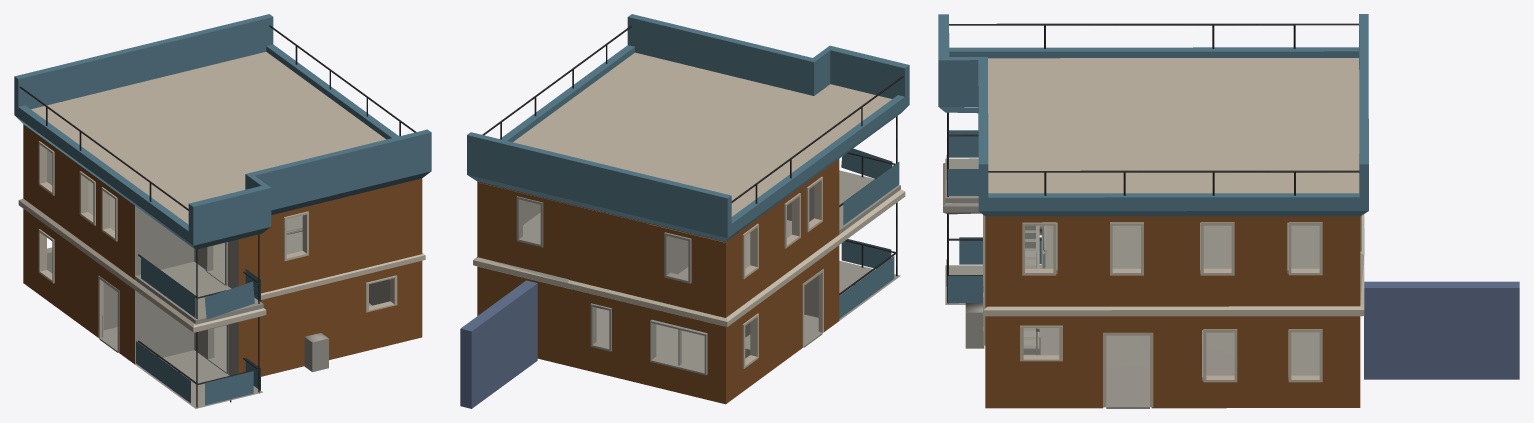
File: House-1.fbx
The picture shows the model from 3 angles, left to right: view 1: azimuth 30°, elevation 25°; view 2: azimuth 150°, elevation 25°; view 3: azimuth 270°, elevation 25°; orthographic projection. The views are drawn at different scales.
Parts seen in each view (by area): view 1: house.001; view 2: house.001; view 3: house.001.
Part boxes in pixels (x1,y1,x2,y2): house.001: (14, 14, 431, 408); house.001: (460, 14, 909, 408); house.001: (938, 14, 1519, 408).
Size of the model in its own units: 11.99 by 9.34 by 19.61.
